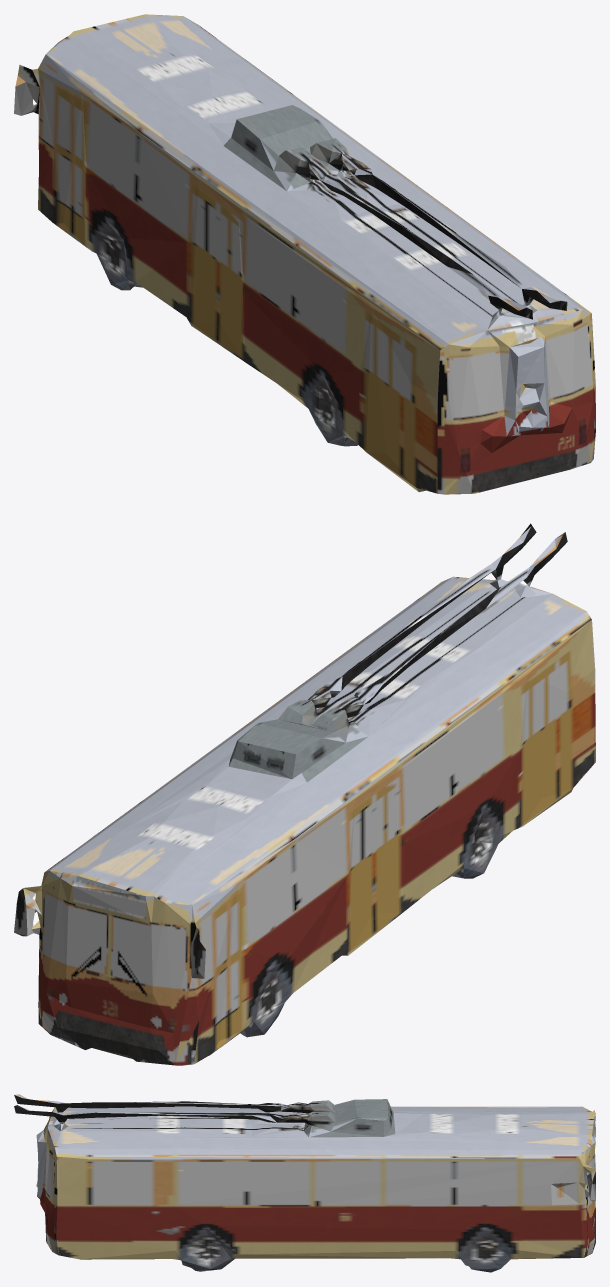
3 renders of one model, top to bottom at view 1: azimuth 30°, elevation 25°; view 2: azimuth 150°, elevation 25°; view 3: azimuth 270°, elevation 25°, orthographic. The views are drawn at different scales.
Bounding box in the file's own units: 2.96 × 3.36 × 11.9.
Materials: 1 (1 with a texture image).
